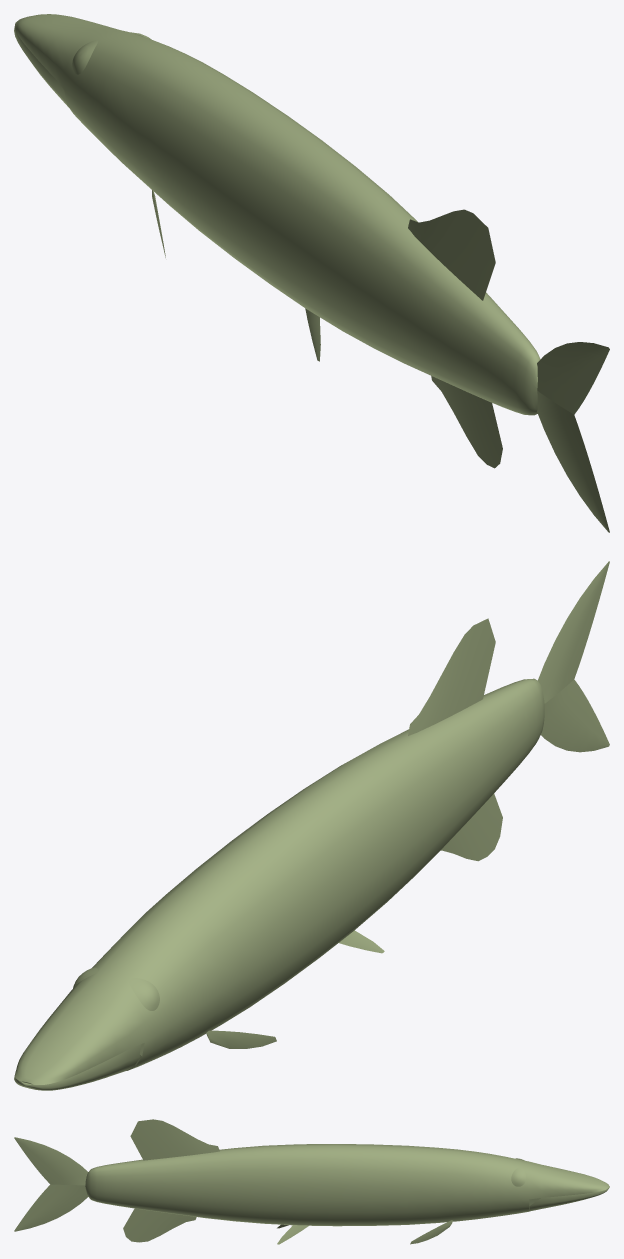
Rendered from northern_pike_game.glb.
3 renders of one model, top to bottom at view 1: azimuth 30°, elevation 25°; view 2: azimuth 150°, elevation 25°; view 3: azimuth 270°, elevation 25°, orthographic. The views are drawn at different scales.
Parts seen in each view (by area): view 1: northern_pike_game; view 2: northern_pike_game; view 3: northern_pike_game.
Boxes of the visible parts, <box> form: northern_pike_game: <box>14,14,609,532</box>; northern_pike_game: <box>14,561,609,1090</box>; northern_pike_game: <box>14,1119,609,1244</box>.
Size of the model in its own units: 0.1092 by 0.2277 by 0.999.
